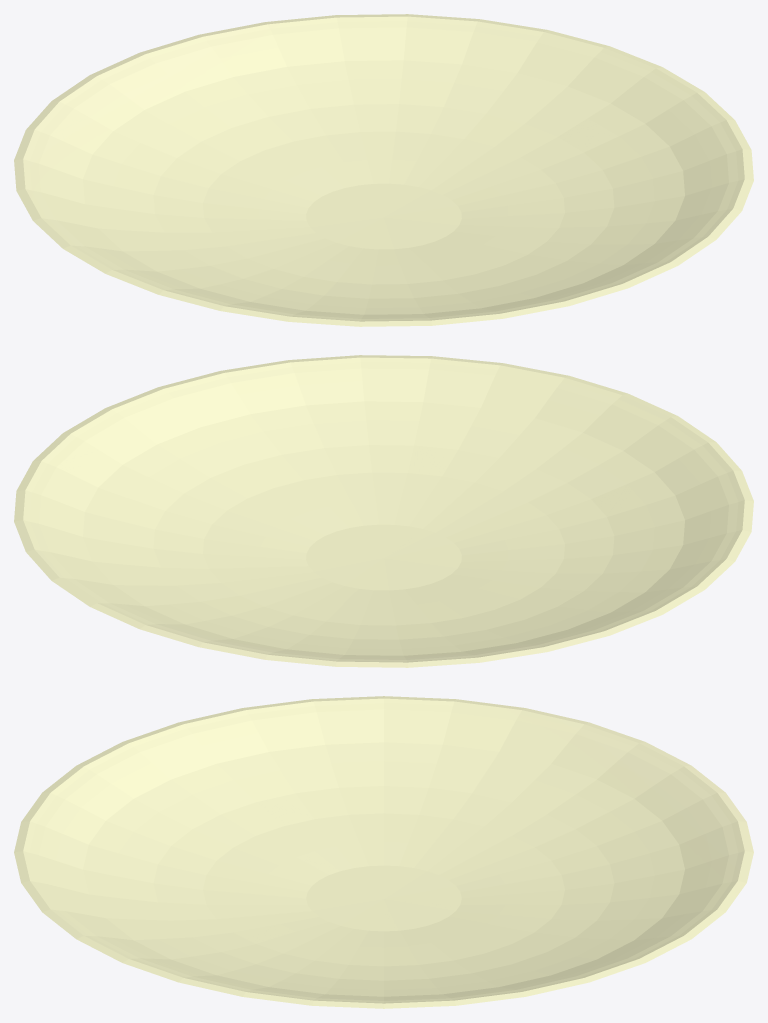
File: plato.obj
3 views of the same model, one above another, from view 1: azimuth 30°, elevation 25°; view 2: azimuth 150°, elevation 25°; view 3: azimuth 270°, elevation 25° (orthographic).
Parts seen in each view (by area): view 1: Sphere; view 2: Sphere; view 3: Sphere.
Part boxes in pixels (left/top/right/bottom): Sphere: left=14, top=14, right=753, bottom=326; Sphere: left=14, top=355, right=753, bottom=667; Sphere: left=14, top=696, right=753, bottom=1008.
Size of the model in its own units: 1.4 by 0.137 by 1.4.
Materials: 1 (1 with a texture image).
